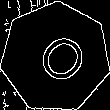O_SW: (23, 24, 88, 91)
